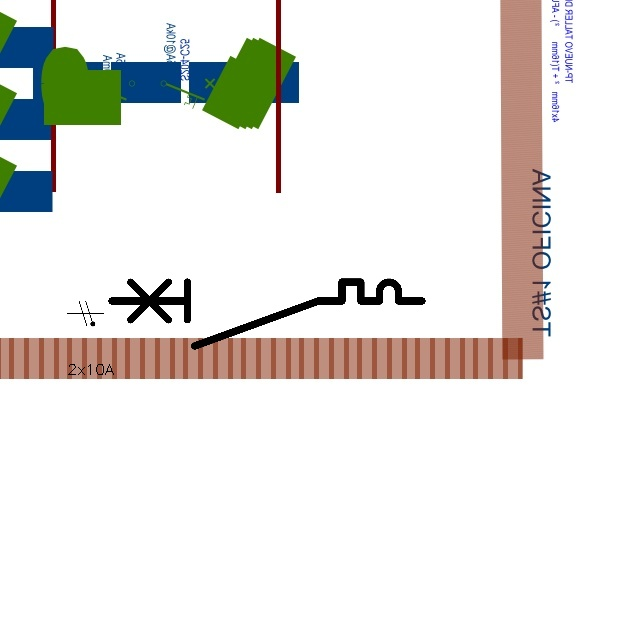interruptor_termomagnetico: (103, 274, 430, 354)
